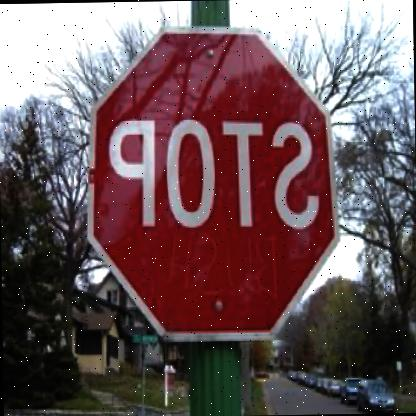stop: (84, 20, 344, 343)
